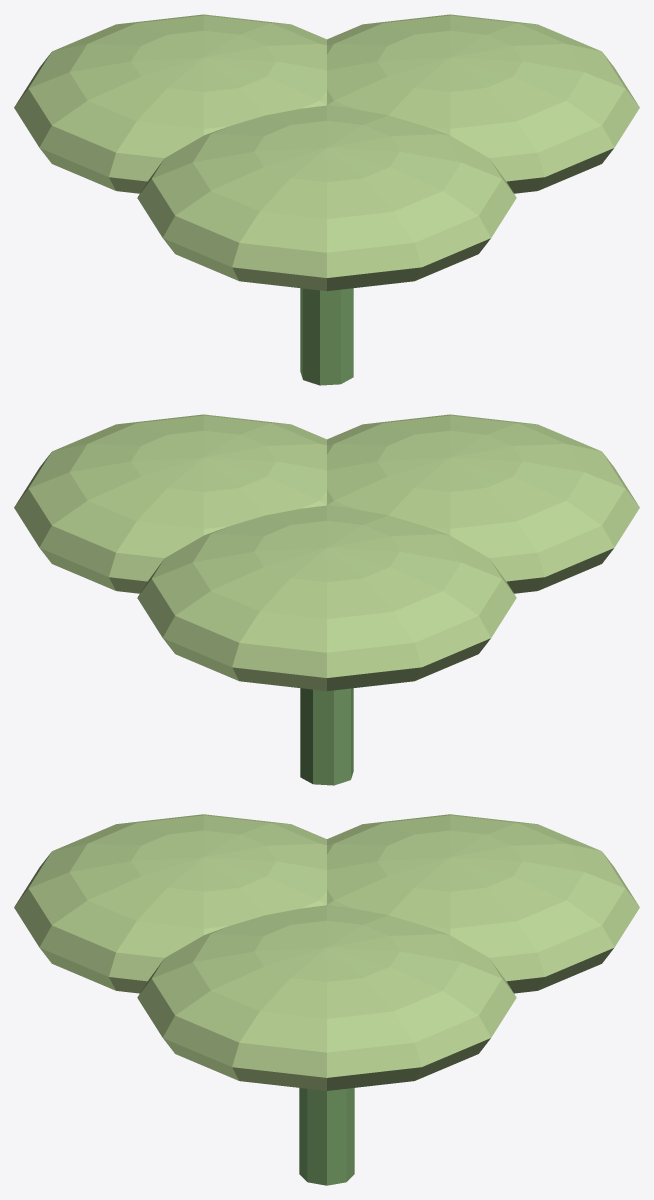
Rendered from Clover.fbx.
The picture shows the model from 3 angles, top to bottom: view 1: azimuth 30°, elevation 25°; view 2: azimuth 150°, elevation 25°; view 3: azimuth 270°, elevation 25°; orthographic projection.
Visible parts, largest first — view 1: Clover leaf.002, Clover leaf, Clover leaf.001, Stem.001; view 2: Clover leaf.001, Clover leaf, Clover leaf.002, Stem.001; view 3: Clover leaf, Clover leaf.001, Clover leaf.002, Stem.001.
Part boxes in pixels (<box>): Clover leaf.002: <box>137,105,516,291</box>; Clover leaf: <box>327,14,639,193</box>; Clover leaf.001: <box>14,14,326,193</box>; Stem.001: <box>300,288,353,385</box>; Clover leaf.001: <box>137,505,516,691</box>; Clover leaf: <box>14,414,326,593</box>; Clover leaf.002: <box>327,414,639,593</box>; Stem.001: <box>300,688,353,785</box>; Clover leaf: <box>137,905,516,1090</box>; Clover leaf.001: <box>327,814,639,993</box>; Clover leaf.002: <box>14,814,326,993</box>; Stem.001: <box>299,1088,354,1185</box>.
Size of the model in its own units: 75 by 40 by 79.18.
